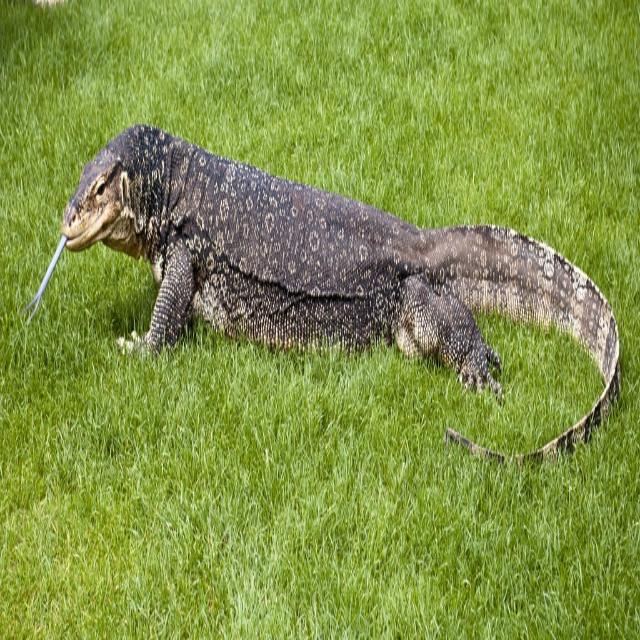Lizard: (24, 132, 514, 389)
